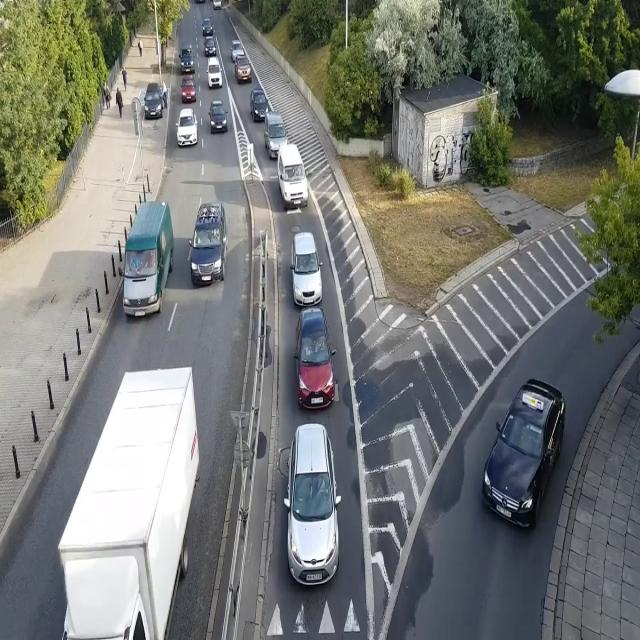car: (479, 374, 568, 535), (281, 422, 342, 586), (292, 305, 336, 415), (288, 230, 324, 308), (175, 107, 198, 146), (144, 82, 164, 120), (208, 99, 228, 134), (249, 88, 269, 123), (234, 54, 253, 84), (180, 74, 197, 102), (230, 39, 245, 62), (204, 36, 217, 56), (201, 17, 213, 36), (212, 0, 222, 10)
truck: (56, 368, 201, 640)
van: (118, 200, 175, 320), (187, 203, 228, 289), (277, 143, 309, 210), (263, 110, 289, 160), (206, 57, 223, 89), (178, 44, 196, 74)
